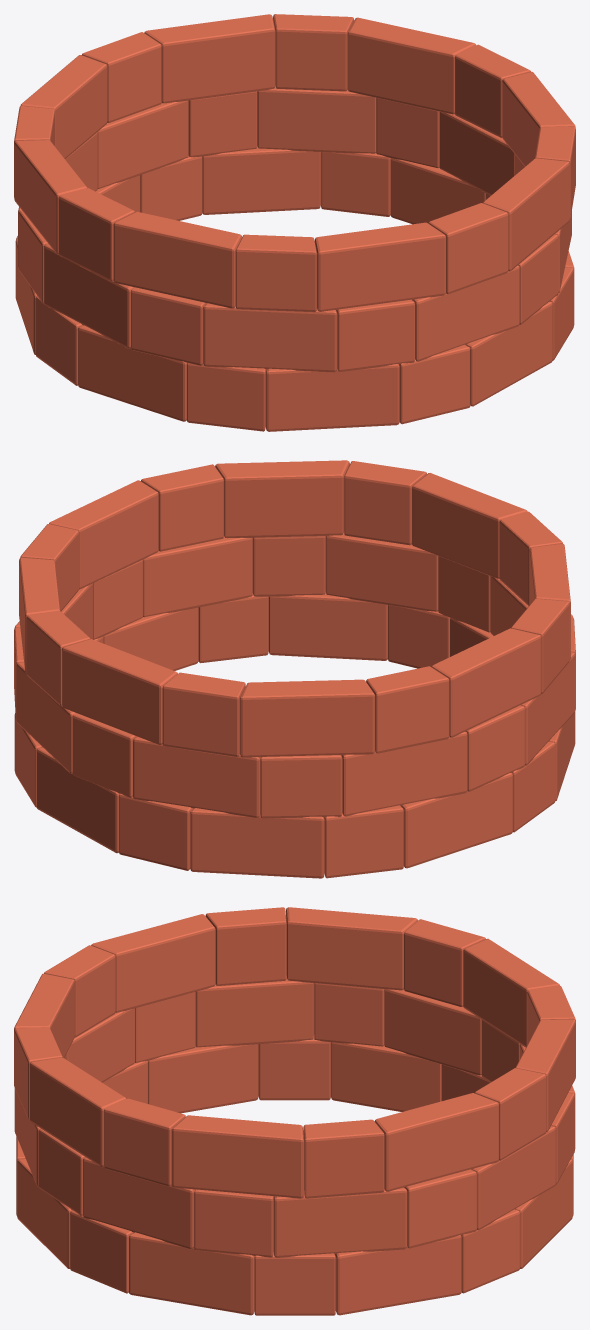
File: Well.fbx
3 renders of one model, top to bottom at view 1: azimuth 30°, elevation 25°; view 2: azimuth 150°, elevation 25°; view 3: azimuth 270°, elevation 25°, orthographic.
Parts seen in each view (by area): view 1: Well; view 2: Well; view 3: Well.
Part boxes in pixels (x1,y1,x2,y2): Well: (14,14,575,431); Well: (14,460,575,878); Well: (14,907,575,1315).
Size of the model in its own units: 204 by 72.89 by 208.
